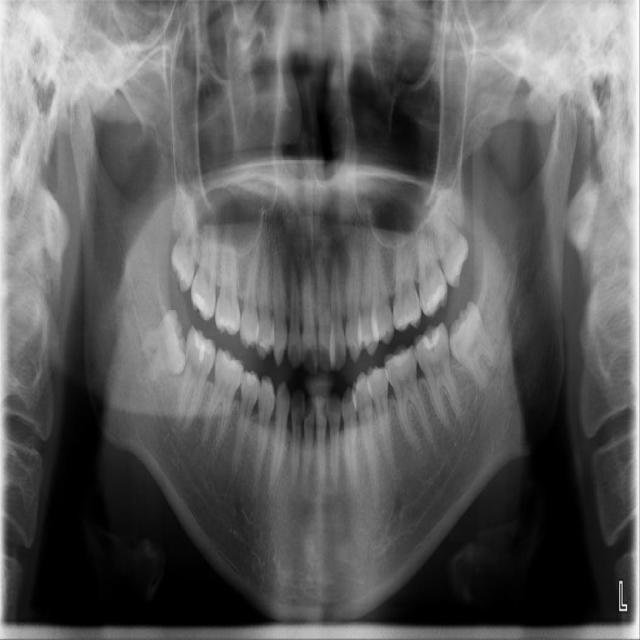3M ESPE Implant: (166, 185, 204, 295)
52: (409, 321, 454, 374), (182, 325, 219, 379)
73: (611, 580, 616, 582)
BioHorizons Implant: (412, 201, 450, 320)
BioLife Implant: (426, 184, 476, 290)
Biomet 3i Implant: (436, 299, 507, 395)
Blue Sky Bio Implant: (409, 321, 464, 432)
Caries: (190, 223, 220, 322)
Implant: (176, 325, 219, 429)
Keystone Dental Implant: (136, 308, 192, 383)
